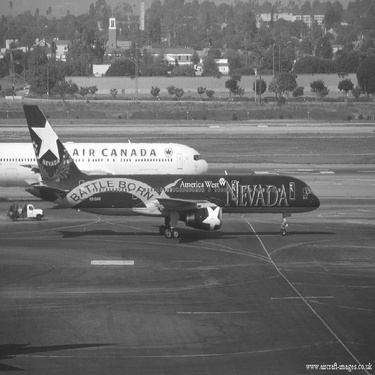airplane: (14, 89, 327, 252), (1, 128, 214, 189)
